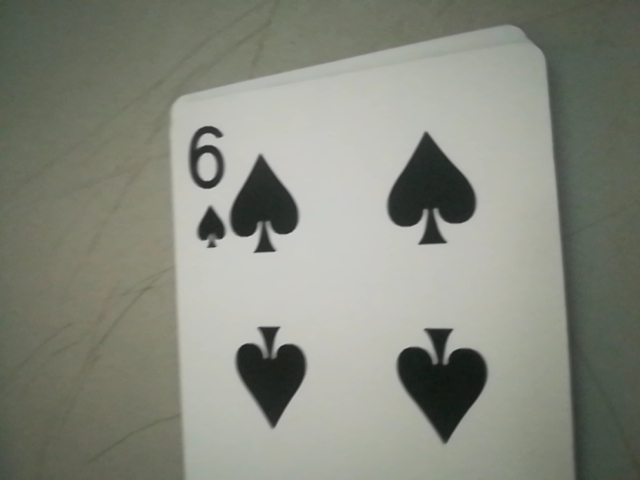ht 6: (175, 111, 242, 257)
